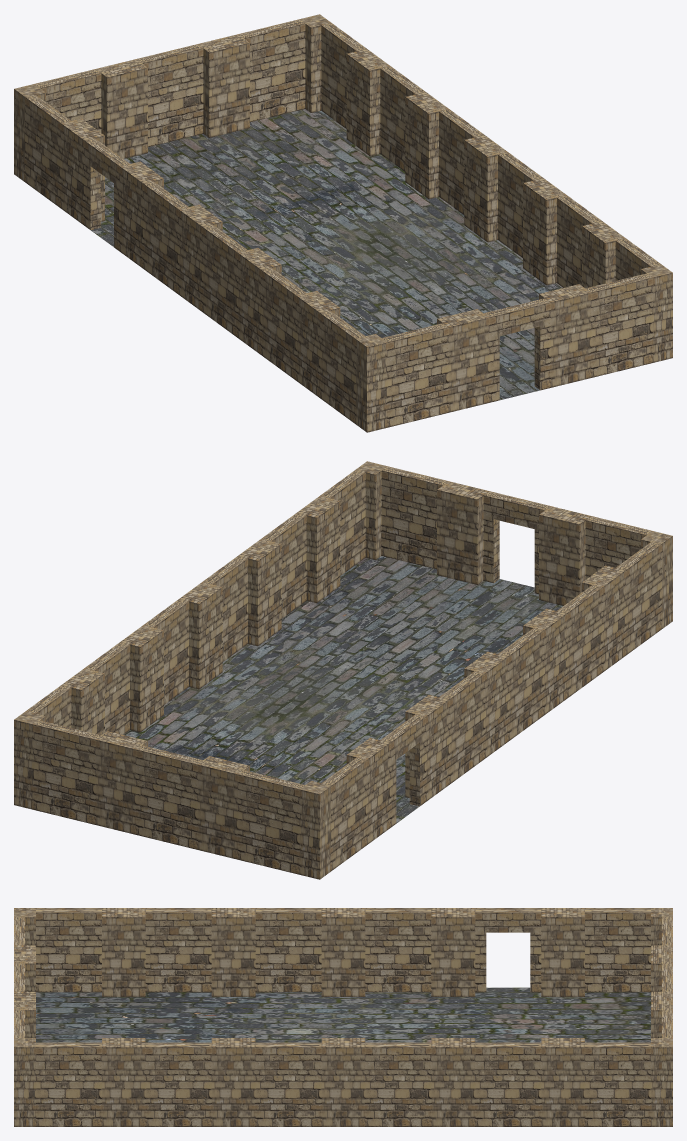
File: twoWayJunc.fbx
3 views of the same model, one above another, from view 1: azimuth 30°, elevation 25°; view 2: azimuth 150°, elevation 25°; view 3: azimuth 270°, elevation 25° (orthographic). The views are drawn at different scales.
Visible parts, largest first — view 1: Plane, Cube_7_2, Cube_9, Cube_10, Cube_8, Cube_25, Cube_27, Cube_17, Cube_7, Cube_30, Cube_1, Cube_6 (+26 smaller); view 2: Plane, Cube_10, Cube_26, Cube_8, Cube_9, Cube_17, Cube_7, Cube_27, Cube_25, Cube_3_2, Cube_14, Cube_6 (+26 smaller); view 3: Plane, Cube_16, Cube_29, Cube_15, Cube_14, Cube_11, Cube_6, Cube_1, Cube_31, Cube_23, Cube_4_2, Cube_6_2 (+19 smaller).
Boxes of the visible parts, left/top/right/bottom form: Plane: left=91, top=109, right=562, bottom=400; Cube_7_2: left=382, top=323, right=448, bottom=427; Cube_9: left=586, top=273, right=652, bottom=377; Cube_10: left=137, top=44, right=203, bottom=146; Cube_8: left=238, top=19, right=305, bottom=122; Cube_25: left=198, top=34, right=249, bottom=137; Cube_27: left=96, top=59, right=147, bottom=158; Cube_17: left=539, top=284, right=591, bottom=387; Cube_7: left=437, top=309, right=489, bottom=412; Cube_30: left=346, top=48, right=389, bottom=156; Cube_1: left=261, top=267, right=306, bottom=380; Cube_6: left=202, top=224, right=247, bottom=337; Plane: left=124, top=556, right=562, bottom=823; Cube_10: left=136, top=745, right=202, bottom=849; Cube_26: left=238, top=770, right=304, bottom=874; Cube_8: left=34, top=720, right=100, bottom=824; Cube_9: left=381, top=466, right=448, bottom=569; Cube_17: left=437, top=481, right=488, bottom=584; Cube_7: left=539, top=506, right=590, bottom=605; Cube_27: left=197, top=756, right=249, bottom=859; Cube_25: left=95, top=731, right=147, bottom=834; Cube_3_2: left=297, top=495, right=340, bottom=603; Cube_14: left=439, top=671, right=484, bottom=784; Cube_6: left=498, top=628, right=543, bottom=741; Plane: left=36, top=987, right=650, bottom=1042; Cube_16: left=145, top=1042, right=211, bottom=1126; Cube_29: left=475, top=1042, right=541, bottom=1126; Cube_15: left=365, top=1042, right=431, bottom=1126; Cube_14: left=365, top=908, right=431, bottom=992; Cube_11: left=255, top=1042, right=321, bottom=1126; Cube_6: left=255, top=908, right=321, bottom=992; Cube_1: left=145, top=908, right=211, bottom=992; Cube_31: left=585, top=1042, right=650, bottom=1126; Cube_23: left=585, top=908, right=650, bottom=992; Cube_4_2: left=36, top=1042, right=101, bottom=1126; Cube_6_2: left=36, top=908, right=101, bottom=992.
Bounding box in the file's own units: 30 × 8 × 60.
Materials: 2 (2 with a texture image).
